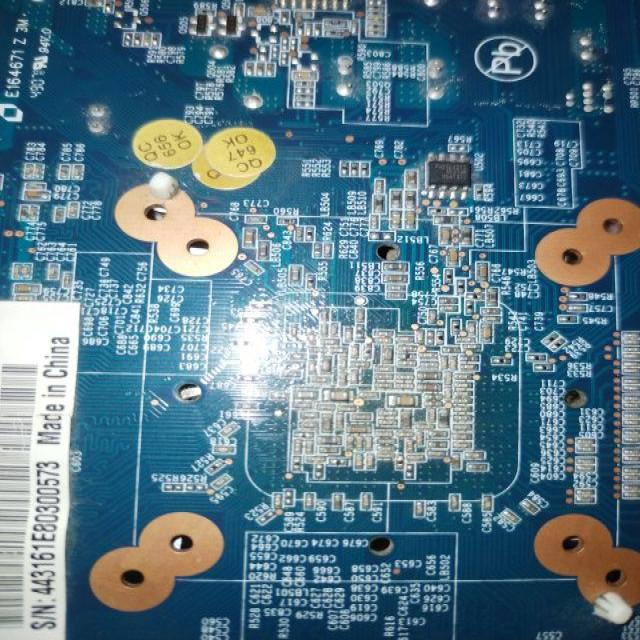capacitor: (445, 489, 467, 517)
